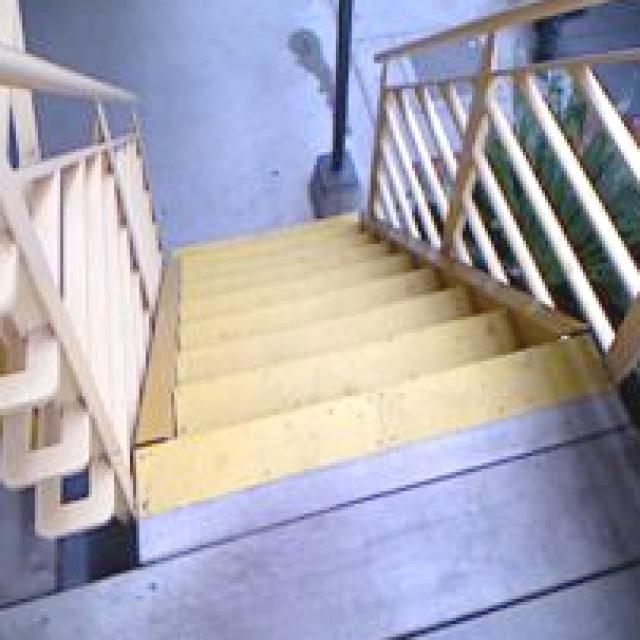downstair: (125, 337, 625, 549)
